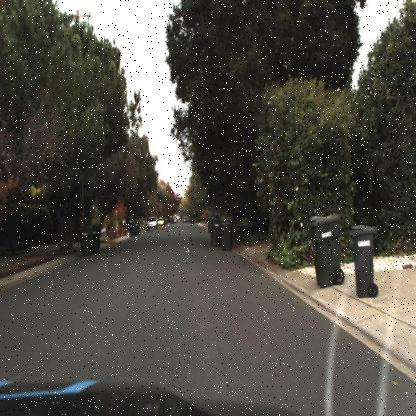car: (146, 217, 158, 231), (158, 218, 165, 226), (182, 217, 187, 224), (171, 218, 174, 224), (172, 218, 176, 222), (172, 218, 176, 221)
